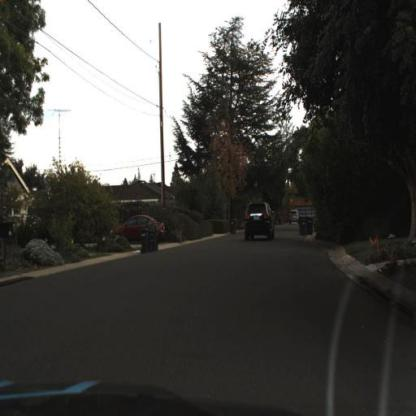car: (239, 184, 281, 254), (108, 205, 171, 250), (287, 205, 302, 229)
